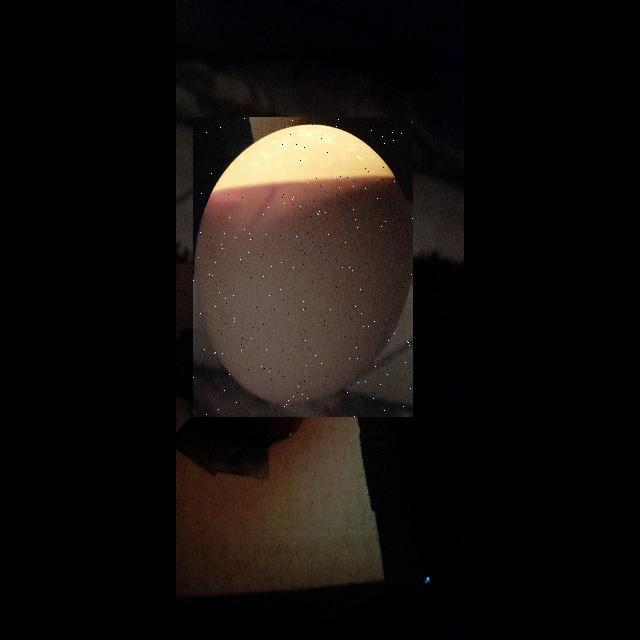Fertile: (193, 117, 413, 417)
